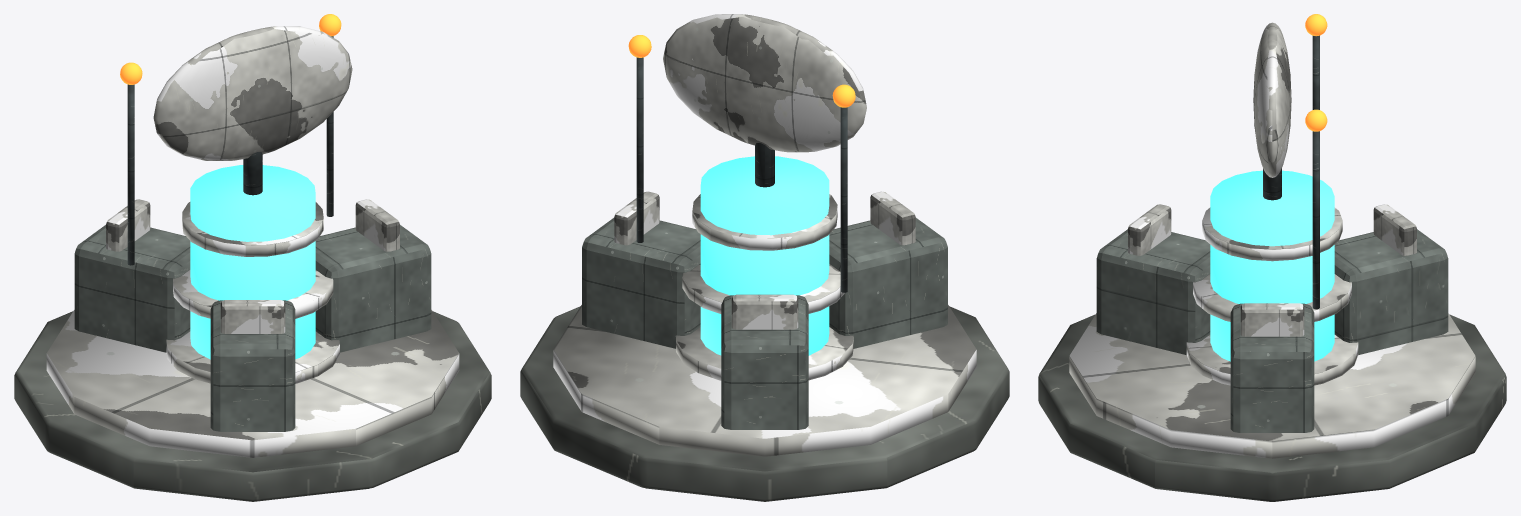
The model's file is tech_center.glb.
3 renders of one model, left to right at view 1: azimuth 30°, elevation 25°; view 2: azimuth 150°, elevation 25°; view 3: azimuth 270°, elevation 25°, orthographic. The views are drawn at different scales.
Visible parts, largest first — view 1: tech_center_team_primary, tech_center_factory_metal, tech_center_concrete_dark, tech_center_team_accent, tech_center_glass_emissive, tech_center_armor_dark, tech_center_warning_emissive; view 2: tech_center_team_primary, tech_center_factory_metal, tech_center_concrete_dark, tech_center_team_accent, tech_center_glass_emissive, tech_center_armor_dark, tech_center_warning_emissive; view 3: tech_center_team_primary, tech_center_factory_metal, tech_center_concrete_dark, tech_center_glass_emissive, tech_center_team_accent, tech_center_armor_dark, tech_center_warning_emissive.
Boxes of the visible parts, box(x1,y1,x2,y2) form: tech_center_team_primary: box(46, 202, 459, 457); tech_center_factory_metal: box(74, 225, 431, 431); tech_center_concrete_dark: box(14, 311, 491, 501); tech_center_team_accent: box(106, 26, 399, 333); tech_center_glass_emissive: box(190, 165, 315, 359); tech_center_armor_dark: box(127, 36, 333, 265); tech_center_warning_emissive: box(120, 14, 341, 84); tech_center_team_primary: box(553, 194, 976, 456); tech_center_factory_metal: box(582, 217, 947, 429); tech_center_concrete_dark: box(520, 306, 1009, 501); tech_center_team_accent: box(614, 14, 915, 329); tech_center_glass_emissive: box(700, 156, 829, 355); tech_center_armor_dark: box(636, 57, 847, 292); tech_center_warning_emissive: box(628, 35, 855, 107); tech_center_team_primary: box(1069, 207, 1475, 458); tech_center_factory_metal: box(1096, 229, 1448, 432); tech_center_concrete_dark: box(1038, 314, 1506, 501); tech_center_glass_emissive: box(1210, 170, 1334, 361); tech_center_team_accent: box(1128, 22, 1416, 336); tech_center_armor_dark: box(1263, 35, 1319, 309); tech_center_warning_emissive: box(1305, 14, 1327, 131).
Bounding box in the file's own units: 5 × 4.32 × 5.
7 materials, 5 textured.
